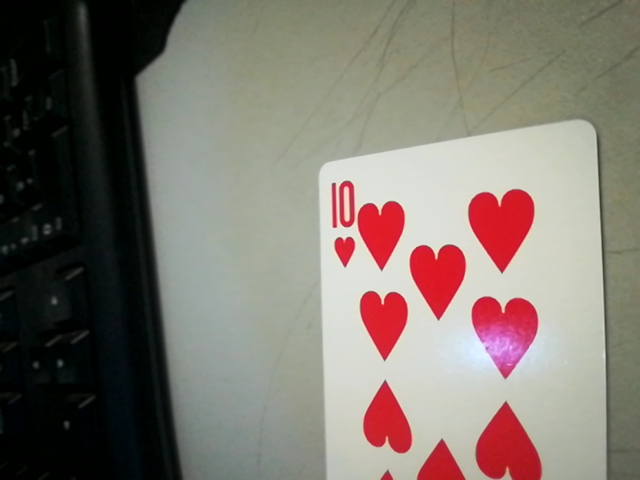hx 10: (319, 170, 363, 268)
